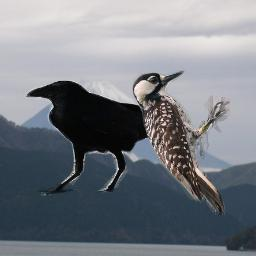Crow: (25, 80, 199, 196)
Woodpecker: (132, 70, 230, 215)
